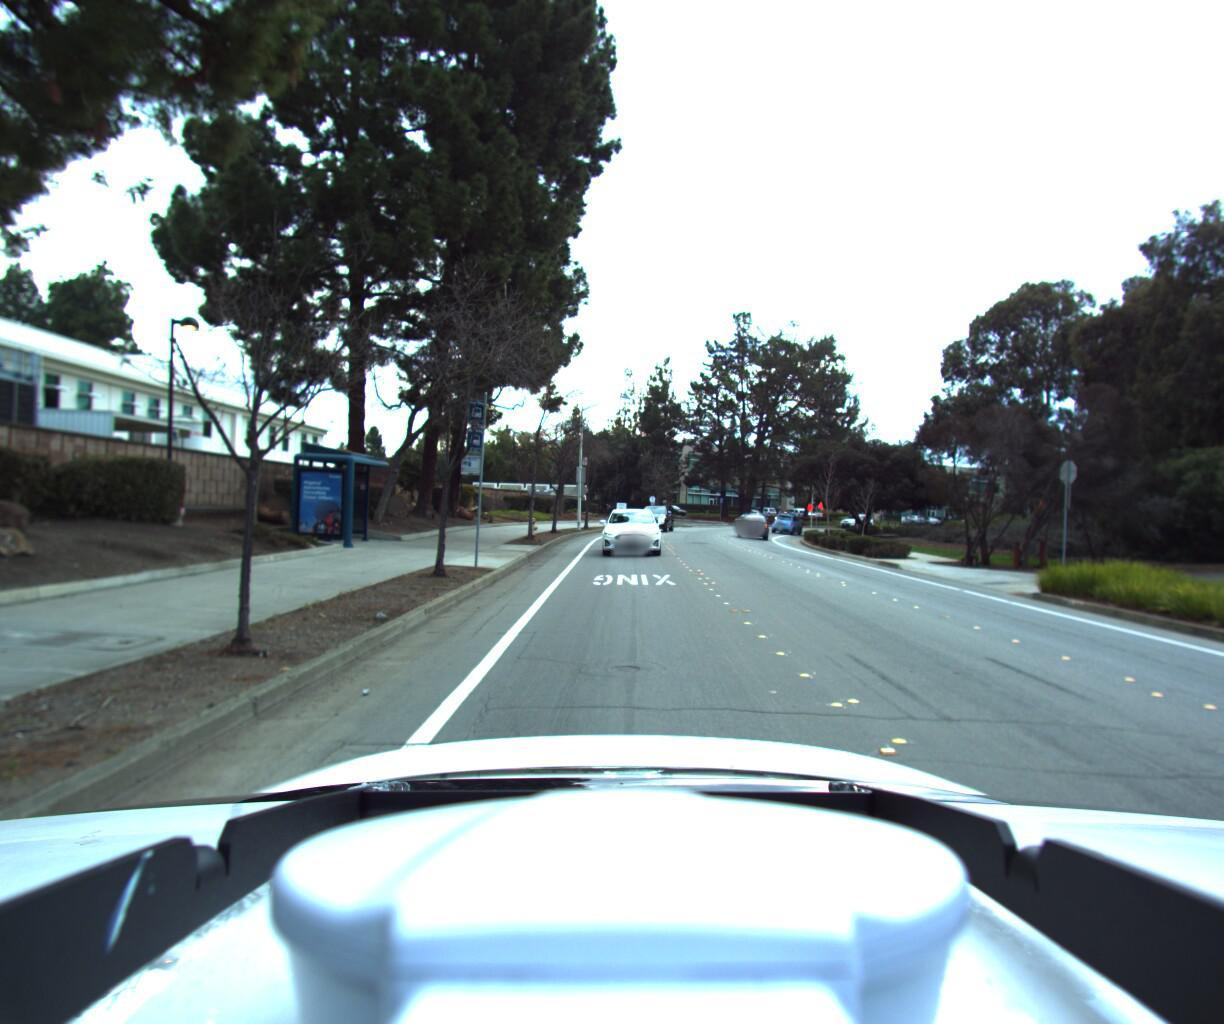car: (599, 503, 663, 557), (633, 502, 674, 530), (738, 513, 772, 538), (774, 509, 811, 532)
